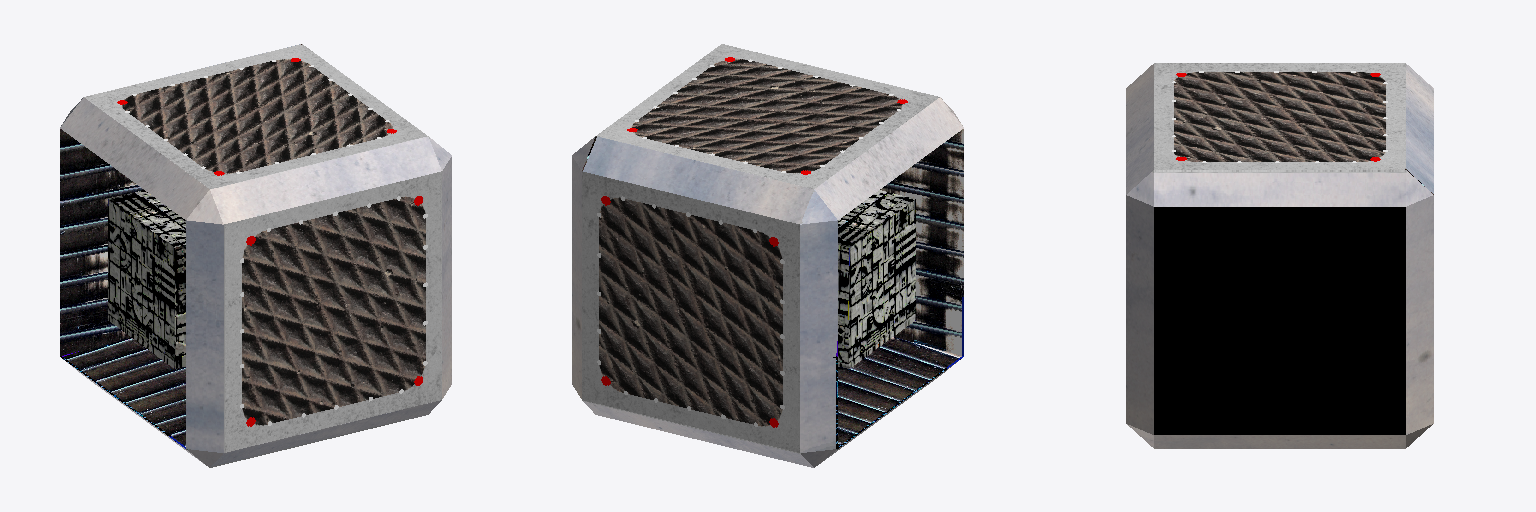
3 renders of one model, left to right at view 1: azimuth 30°, elevation 25°; view 2: azimuth 150°, elevation 25°; view 3: azimuth 270°, elevation 25°, orthographic.
Parts seen in each view (by area): view 1: Base_Cube; view 2: Base_Cube; view 3: Base_Cube.
Part boxes in pixels (x1,y1,x2,y2): Base_Cube: (60,44,451,467); Base_Cube: (572,44,963,467); Base_Cube: (1126,63,1433,448).
Size of the model in its own units: 2 by 2 by 2.
1 materials, 1 textured.